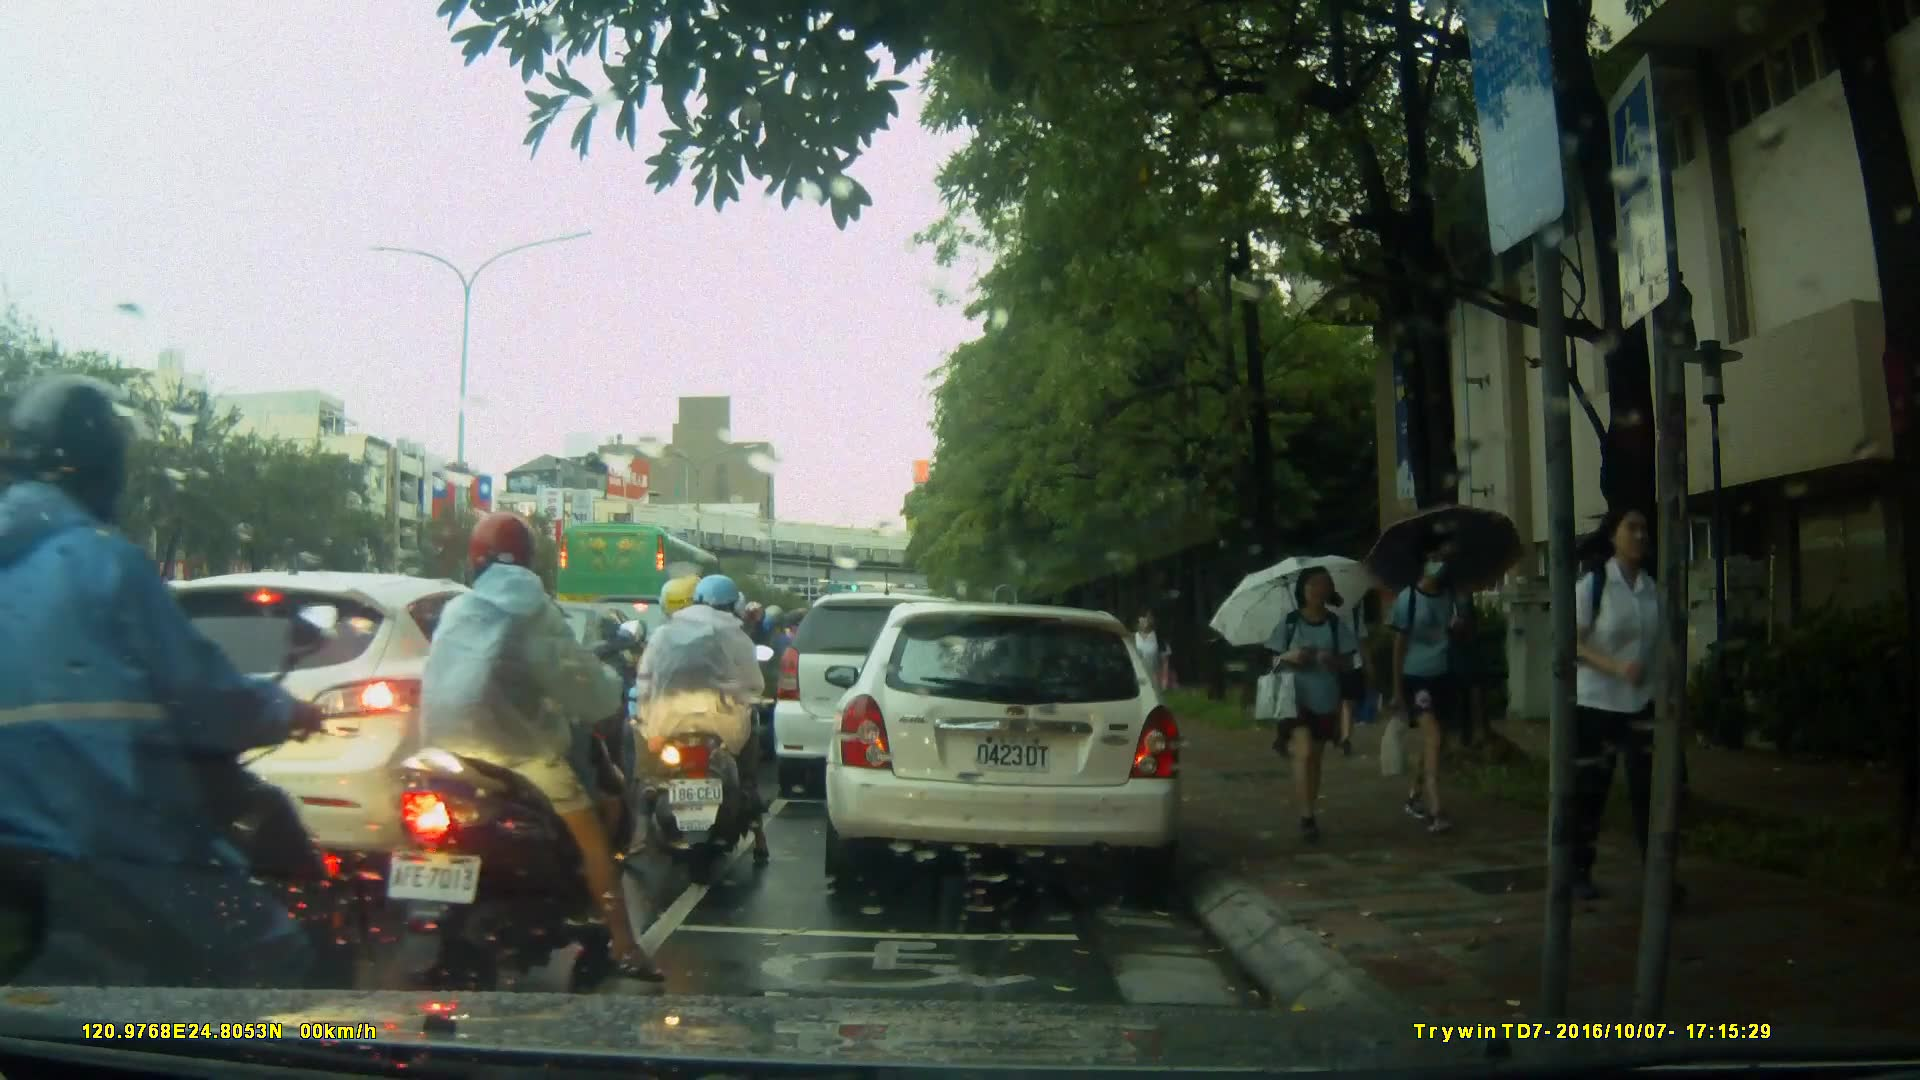pedestrian: (1560, 486, 1691, 914), (1365, 532, 1490, 841), (1259, 559, 1371, 854), (1265, 571, 1315, 770), (1127, 598, 1174, 753)
rider: (1, 359, 381, 1067), (384, 509, 669, 990), (617, 579, 776, 875), (662, 588, 762, 807)
vehicle: (97, 569, 593, 883), (822, 604, 1187, 883), (774, 595, 995, 802), (557, 520, 741, 665), (20, 576, 199, 697)
